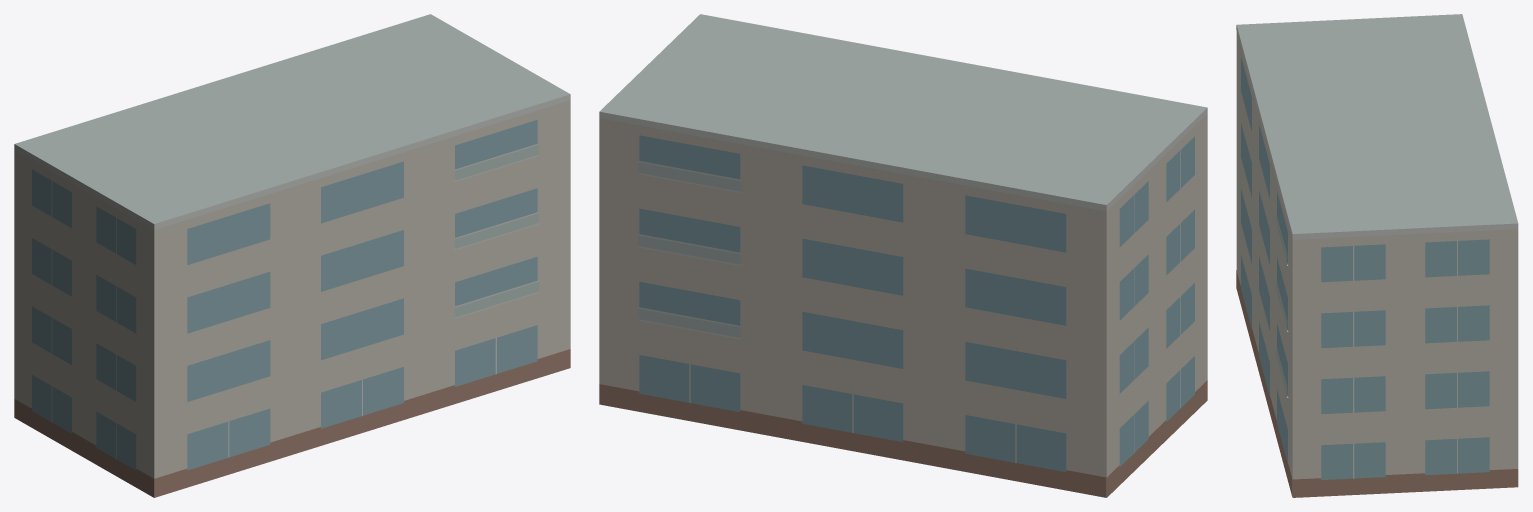
Rendered from survey-upis-32716259.glb.
The picture shows the model from 3 angles, left to right: view 1: azimuth 30°, elevation 25°; view 2: azimuth 150°, elevation 25°; view 3: azimuth 270°, elevation 25°; orthographic projection. The views are drawn at different scales.
Parts seen in each view (by area): view 1: survey-upis-32716259.tmp; view 2: survey-upis-32716259.tmp; view 3: survey-upis-32716259.tmp.
Boxes of the visible parts, x1,y1,x2,y2 form: survey-upis-32716259.tmp: [14, 14, 570, 497]; survey-upis-32716259.tmp: [599, 14, 1207, 497]; survey-upis-32716259.tmp: [1236, 14, 1518, 497].
Size of the model in its own units: 20.23 by 11.3 by 10.95.
